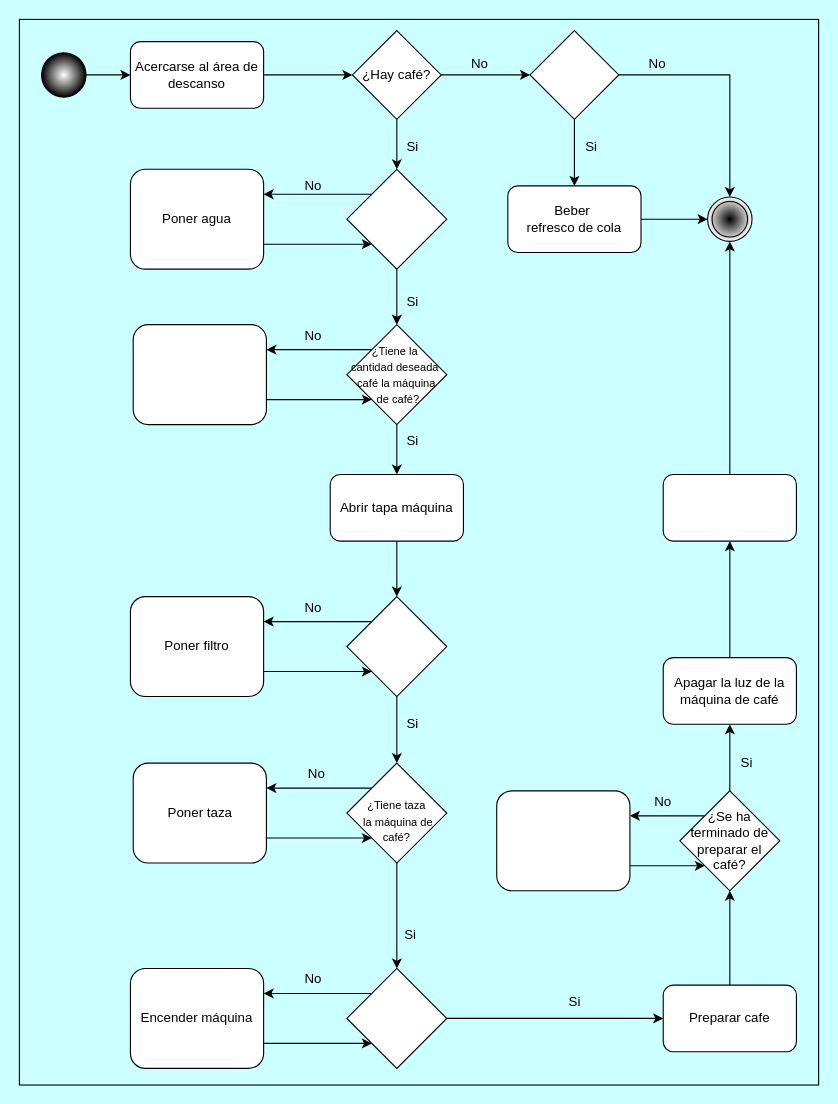
Some shapes in this 838 by 1104 pixel diagram are drawn without their labels. The box of each missing label's shape, as (x1, y1, x2, y2) in pixels:
Continuar preparación del café: (496, 790, 630, 891)
Poner café: (132, 324, 266, 425)
Servirse y disfrutar del café: (662, 473, 796, 541)
¿Está encendida la máquina de café?: (346, 967, 447, 1068)
¿Hay refresco de cola?: (529, 29, 619, 119)
¿Tiene agua suficiente la máquina de café?: (346, 168, 447, 269)
¿Tiene filtro la máquina de café?: (346, 596, 447, 697)
